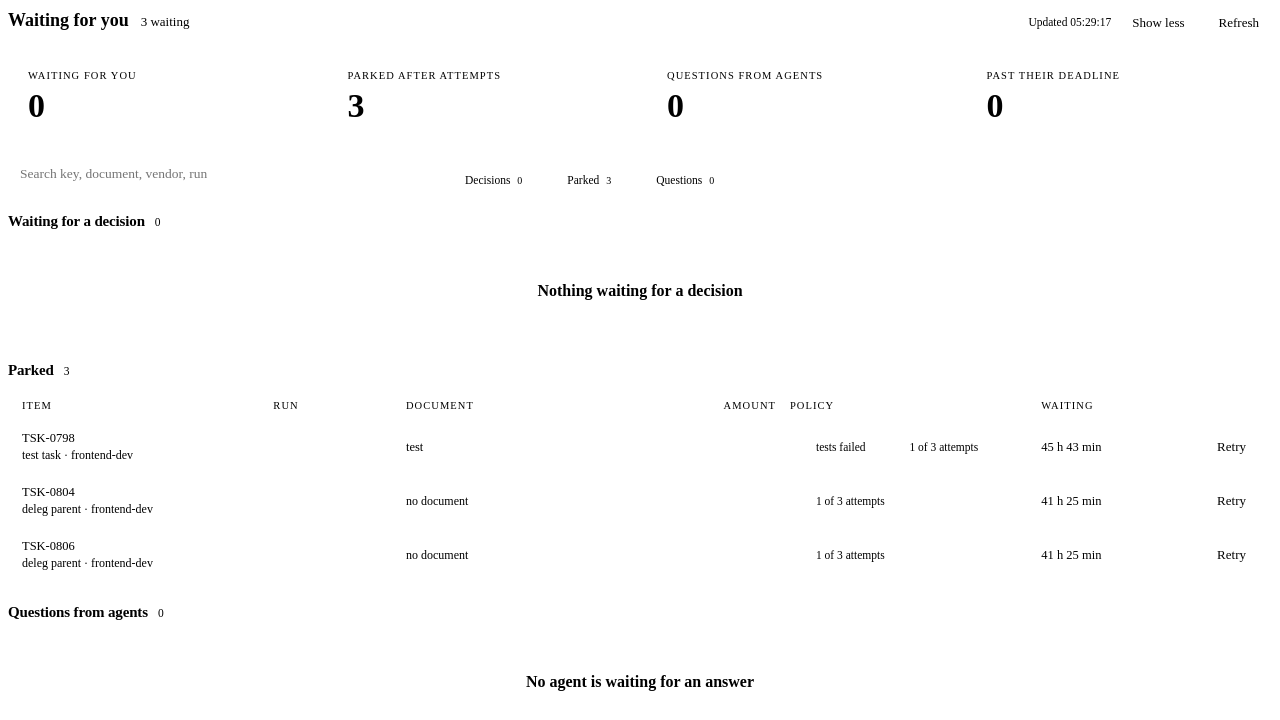
Test case: Inbox panel: the whole list › narrows the list by search
Check: the text "TSK-0798" is shown, box [22,431,75,445]
Step 1. Type "TSK-0804" into the search field labelled "Search" → (218, 174), box [8,157,428,191]
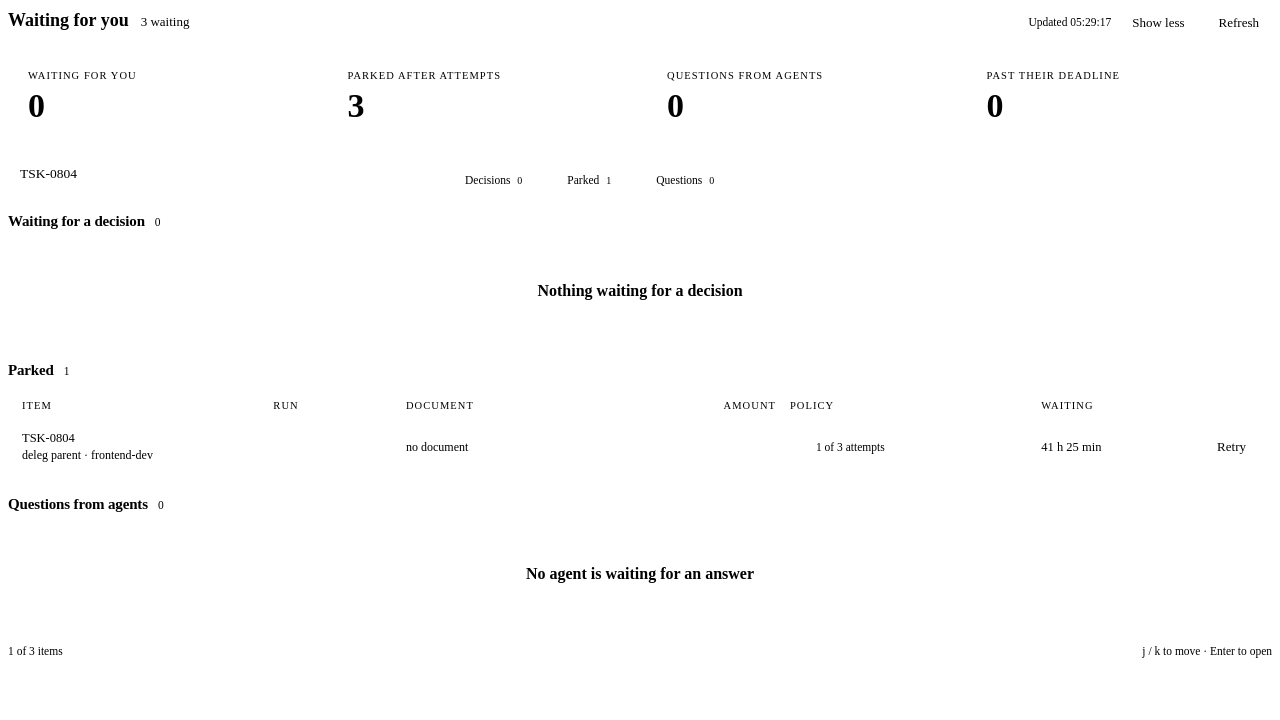
Check: the text "TSK-0804" is shown, box [22,431,75,445]
Check: the link "TSK-0798" is gone
